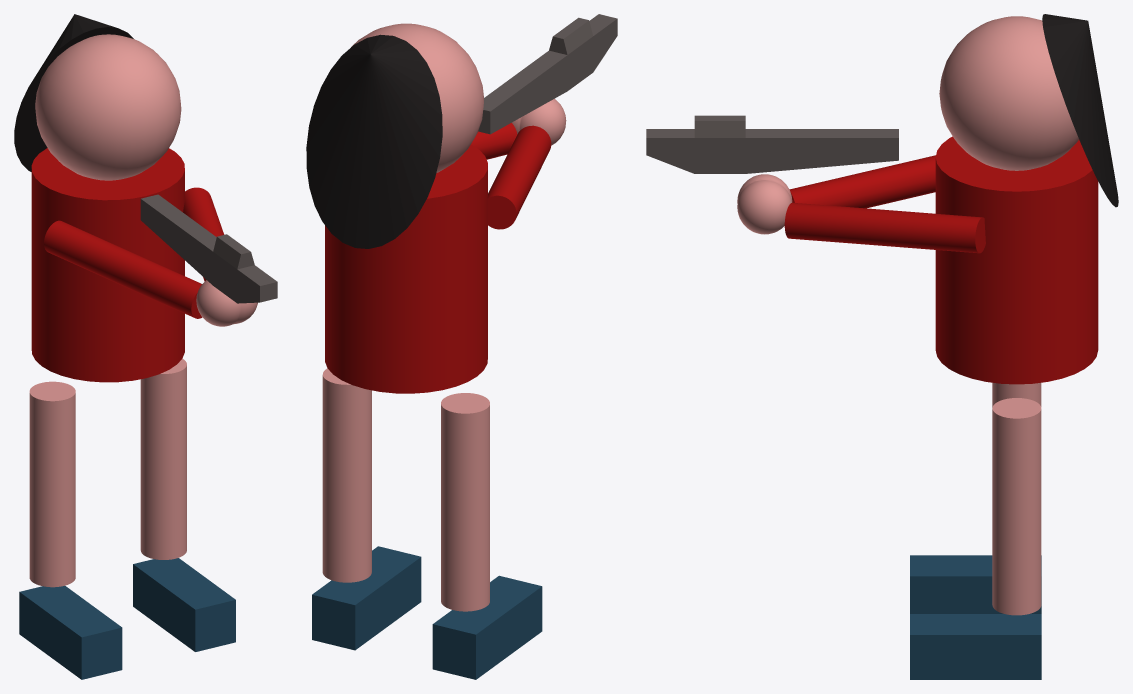
The model's file is SM_Char02.glb.
3 renders of one model, left to right at view 1: azimuth 30°, elevation 25°; view 2: azimuth 150°, elevation 25°; view 3: azimuth 270°, elevation 25°, orthographic. The views are drawn at different scales.
Visible parts, largest first — view 1: Cube.003; view 2: Cube.003; view 3: Cube.003.
Boxes of the visible parts, box(x1,y1,x2,y2) form: Cube.003: box(14, 14, 277, 679); Cube.003: box(306, 14, 617, 679); Cube.003: box(646, 14, 1118, 679).
Size of the model in its own units: 0.4746 by 1.58 by 1.09.
